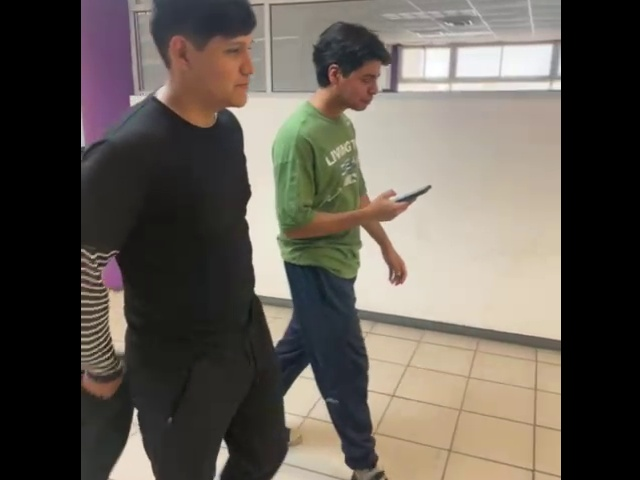mixto2: (388, 179, 437, 203)
